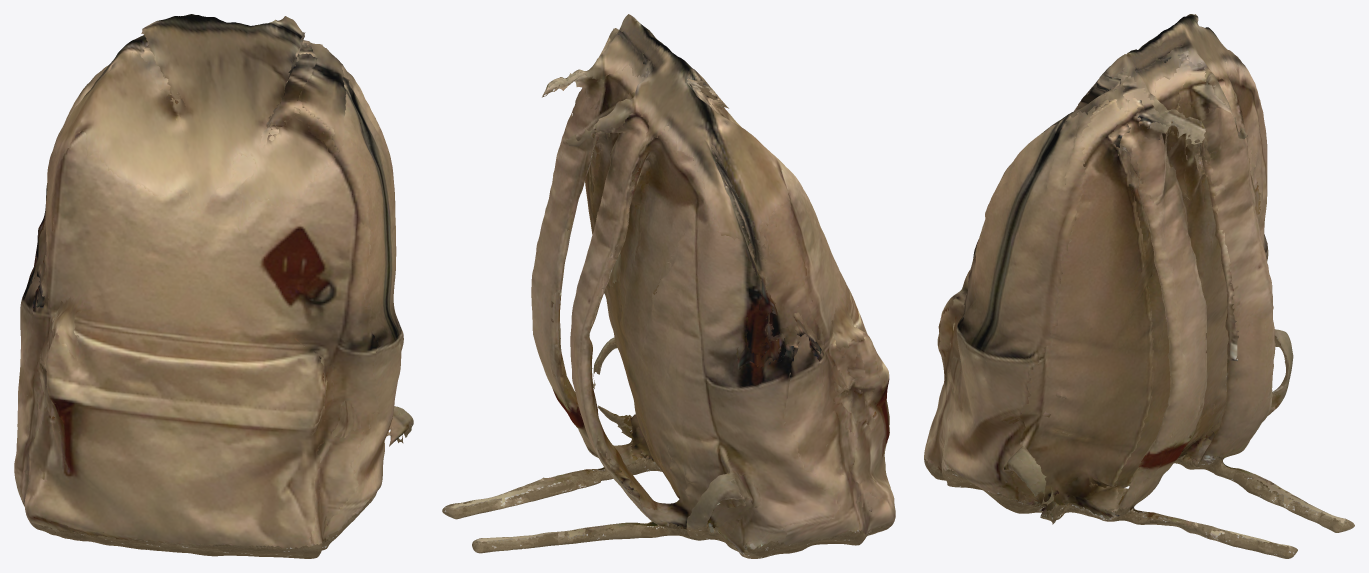
File: beige_backpack.glb
3 views of the same model, side by side, from view 1: azimuth 30°, elevation 25°; view 2: azimuth 150°, elevation 25°; view 3: azimuth 270°, elevation 25° (orthographic).
Visible parts, largest first — view 1: Object_2, Object_3, Object_5, Object_6, Object_4; view 2: Object_2, Object_3, Object_5, Object_6, Object_4; view 3: Object_2, Object_3, Object_5, Object_6, Object_4.
Part boxes in pixels (bbox=[...]): Object_2: bbox=[18, 14, 400, 547]; Object_3: bbox=[14, 153, 413, 554]; Object_5: bbox=[16, 154, 406, 552]; Object_6: bbox=[32, 116, 396, 336]; Object_4: bbox=[39, 529, 330, 558]; Object_2: bbox=[531, 14, 894, 531]; Object_3: bbox=[448, 182, 895, 555]; Object_5: bbox=[499, 167, 894, 557]; Object_6: bbox=[535, 112, 850, 357]; Object_4: bbox=[442, 464, 882, 558]; Object_2: bbox=[926, 14, 1274, 493]; Object_3: bbox=[926, 136, 1345, 550]; Object_5: bbox=[924, 168, 1286, 550]; Object_6: bbox=[968, 89, 1270, 331]; Object_4: bbox=[927, 461, 1354, 558].
Bounding box in the file's own units: 89.73 × 109 × 92.56.
Materials: 1 (1 with a texture image).
